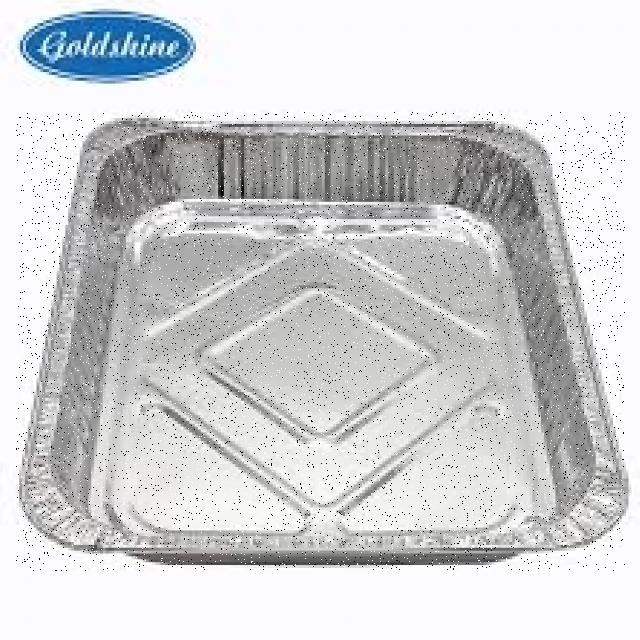metal: (17, 113, 625, 571)
